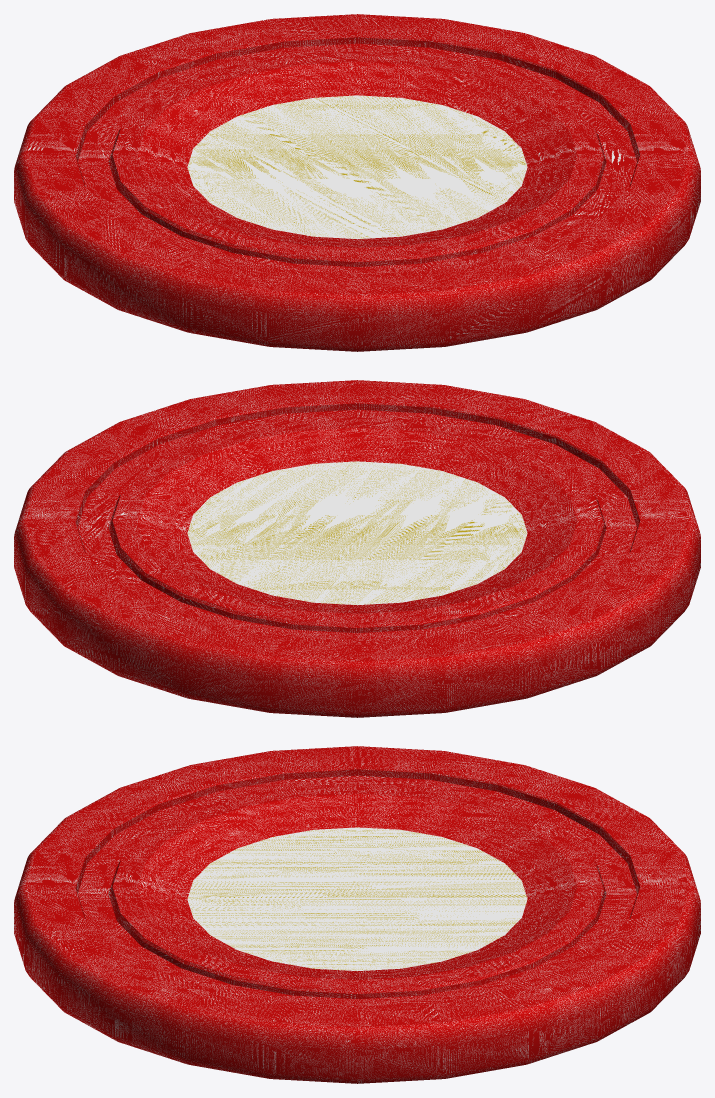
File: original-29.obj
3 renders of one model, top to bottom at view 1: azimuth 30°, elevation 25°; view 2: azimuth 150°, elevation 25°; view 3: azimuth 270°, elevation 25°, orthographic.
Parts seen in each view (by area): view 1: mesh27/mesh27-geometry#mesh27-geometry; view 2: mesh27/mesh27-geometry#mesh27-geometry; view 3: mesh27/mesh27-geometry#mesh27-geometry.
Boxes of the visible parts, left/top/right/bottom form: mesh27/mesh27-geometry#mesh27-geometry: left=14, top=14, right=700, bottom=351; mesh27/mesh27-geometry#mesh27-geometry: left=14, top=380, right=700, bottom=717; mesh27/mesh27-geometry#mesh27-geometry: left=14, top=746, right=700, bottom=1083.
Size of the model in its own units: 0.9943 by 0.0859 by 0.9943.
